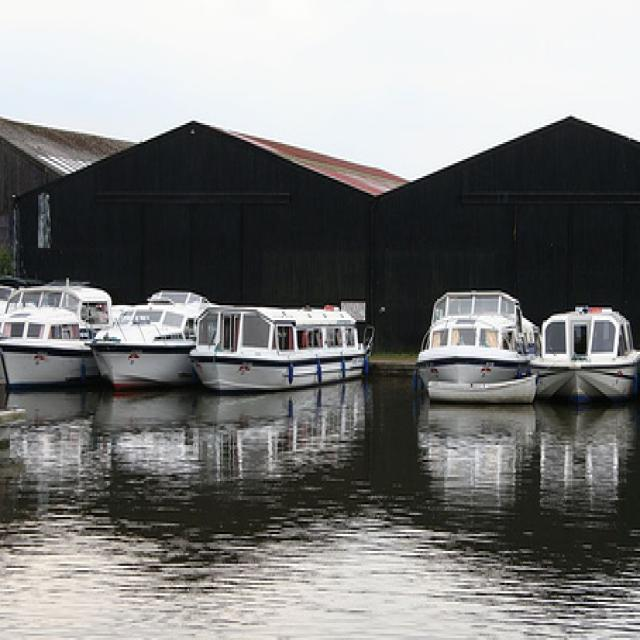houseboat: (201, 289, 391, 402), (430, 256, 540, 420), (86, 282, 215, 402), (539, 283, 640, 396)
